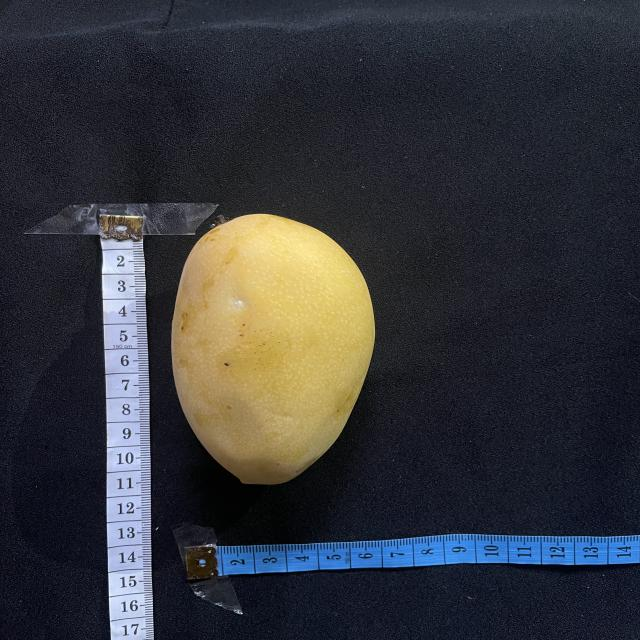Ripe: (171, 214, 375, 484)
